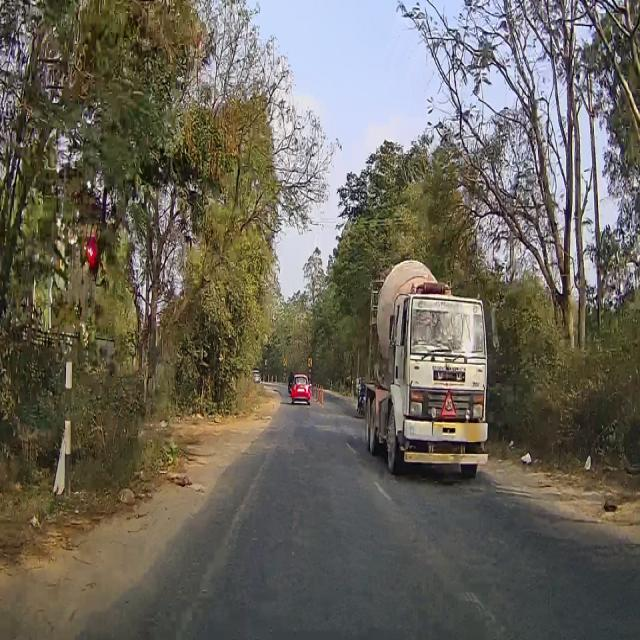barrier ahead at: (56, 334, 84, 507)
truck ahead at: (358, 251, 493, 485)
